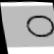no answer: (24, 12, 54, 40)
